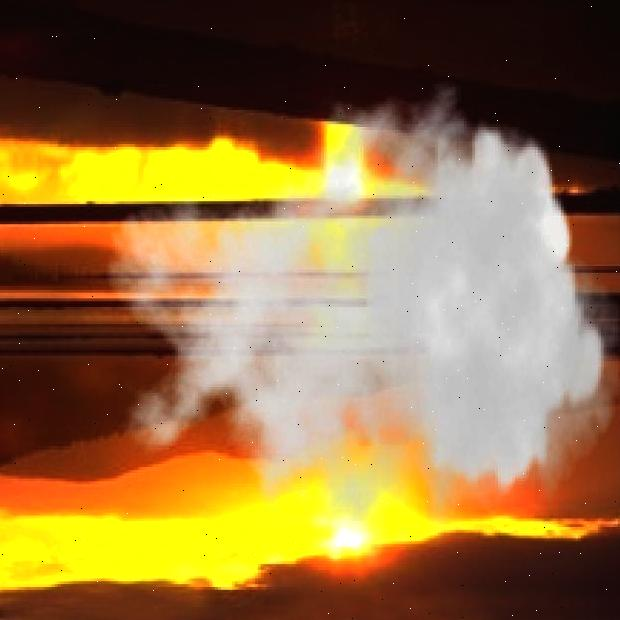smoke: (103, 72, 620, 592)
